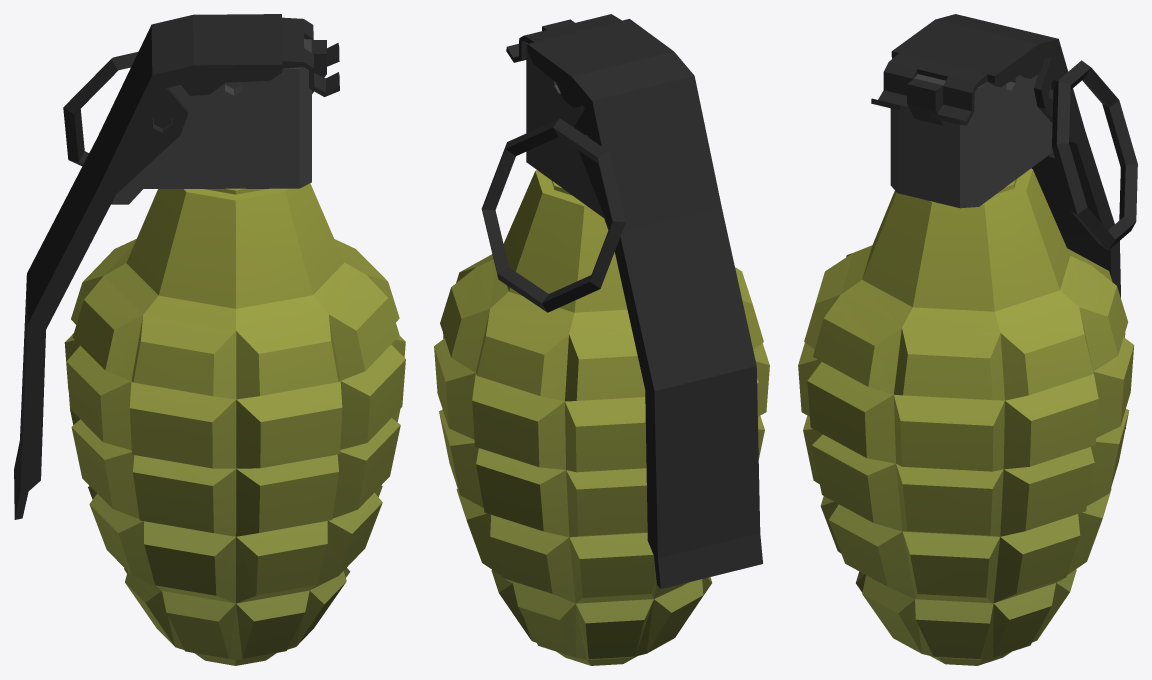
The model's file is Grenade.fbx.
3 views of the same model, side by side, from view 1: azimuth 30°, elevation 25°; view 2: azimuth 150°, elevation 25°; view 3: azimuth 270°, elevation 25° (orthographic).
Parts seen in each view (by area): view 1: Grenade; view 2: Grenade; view 3: Grenade.
Part boxes in pixels (x1=…): Grenade: x1=14, y1=14, x2=405, y2=665; Grenade: x1=434, y1=14, x2=769, y2=665; Grenade: x1=798, y1=14, x2=1137, y2=665.
Bounding box in the file's own units: 29.18 × 49.97 × 25.57.
Materials: 1 (1 with a texture image).
